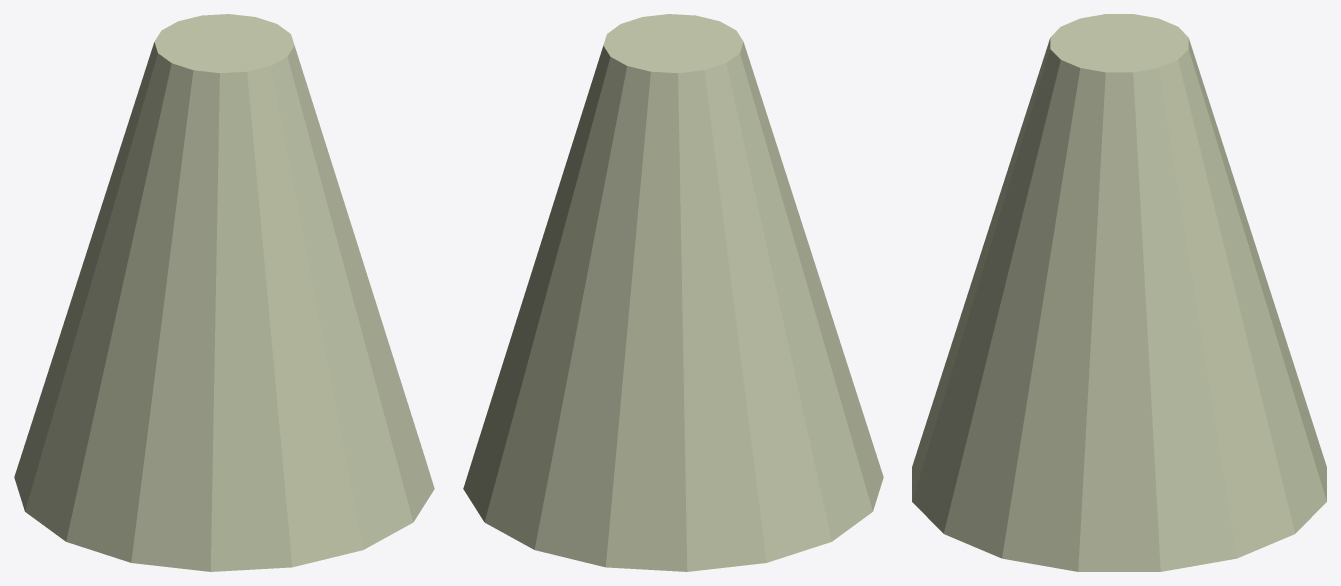
The model's file is Alniyat_Crew_4_Collider.obj.
3 renders of one model, left to right at view 1: azimuth 30°, elevation 25°; view 2: azimuth 150°, elevation 25°; view 3: azimuth 270°, elevation 25°, orthographic.
Parts seen in each view (by area): view 1: Alniyat_Crew_4_Collider; view 2: Alniyat_Crew_4_Collider; view 3: Alniyat_Crew_4_Collider.
Part boxes in pixels (x1=…): Alniyat_Crew_4_Collider: x1=14, y1=14, x2=434, y2=571; Alniyat_Crew_4_Collider: x1=463, y1=14, x2=883, y2=571; Alniyat_Crew_4_Collider: x1=912, y1=14, x2=1326, y2=571.
Size of the model in its own units: 1.88 by 2.2 by 1.88.
